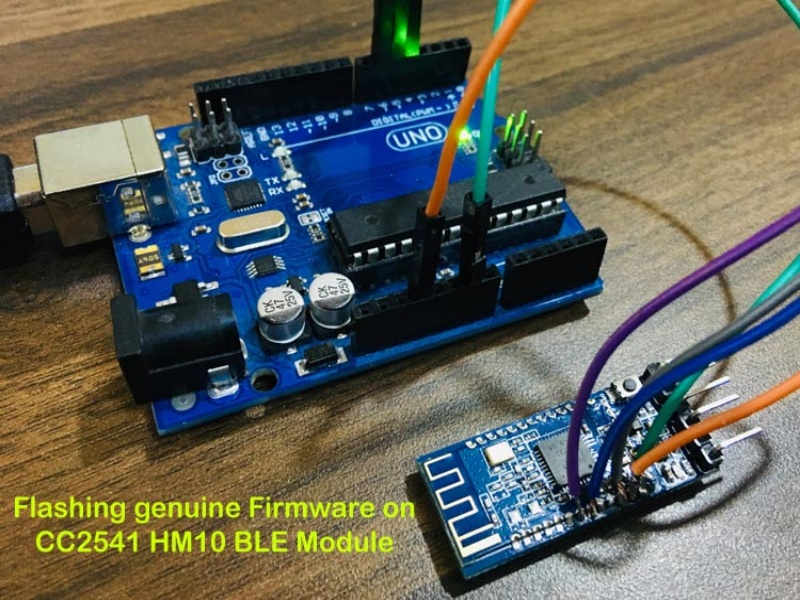uno: (85, 33, 613, 405)
